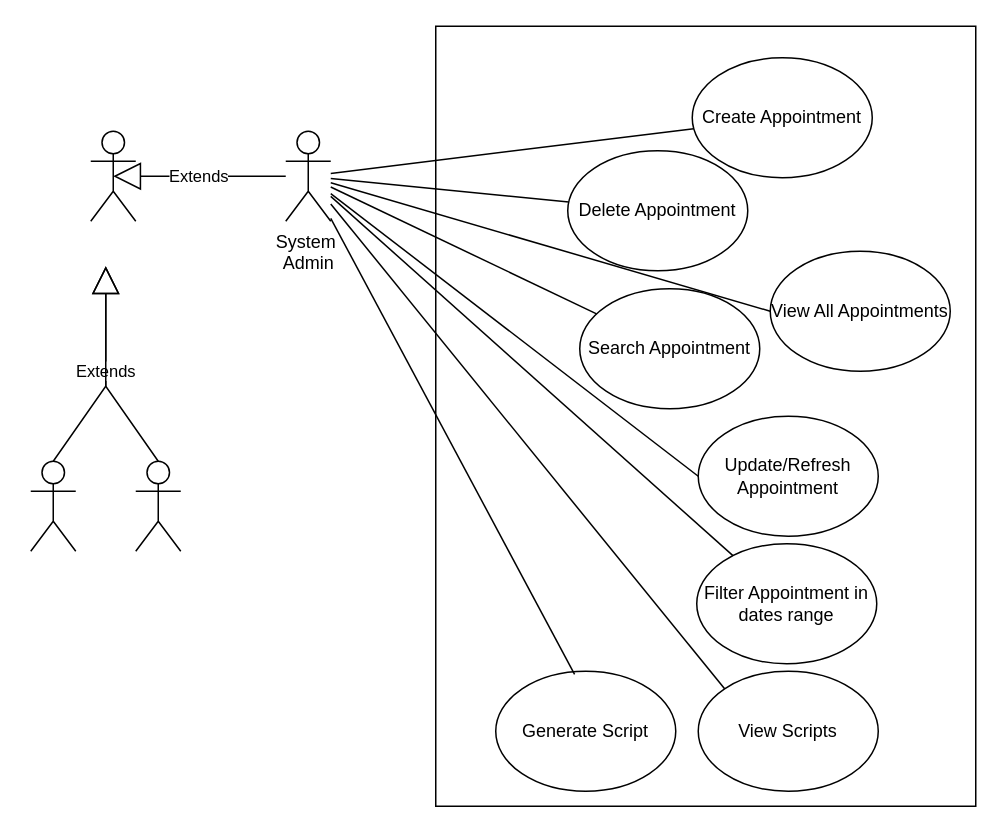
This 1002x833 diagram has some shape labels left out. Here are the shapes that lost their labels. From the top down, the centre of each, then its label:
(x=112, y=175): Person
(x=52, y=505): Patient
(x=157, y=505): Doctor
